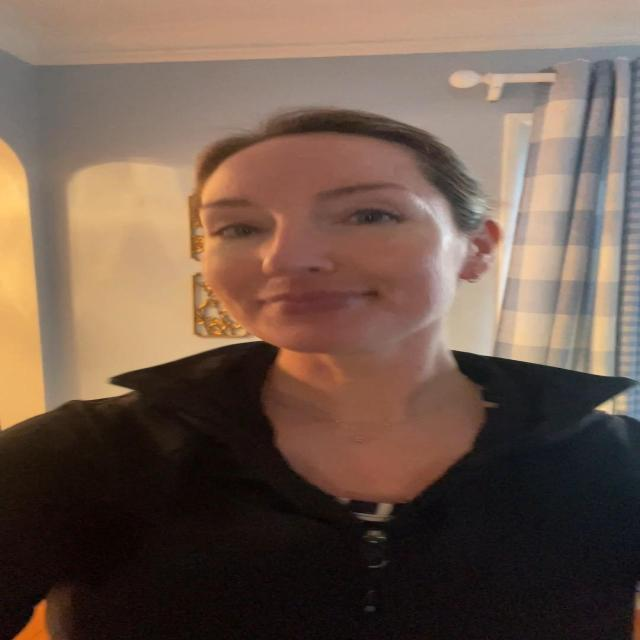no-helmet: (178, 127, 486, 380)
